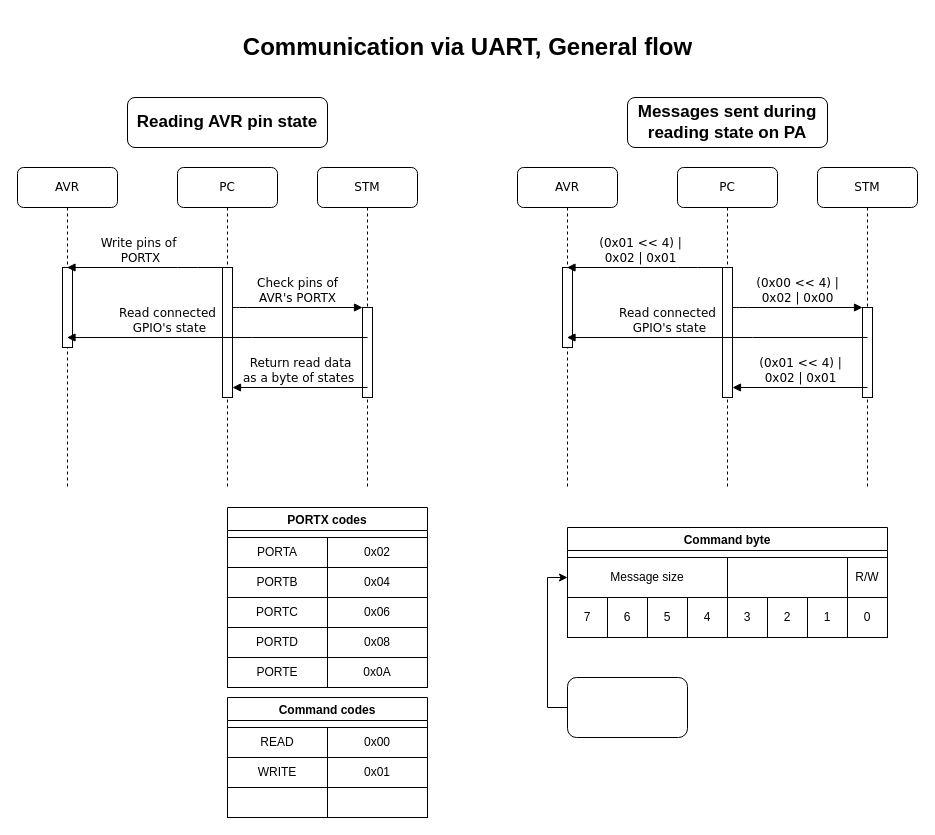
The diagram is 935 pixels wide and 835 high, and some of its shapes have lost their labels. Here are the shapes that lost their labels. From the top down, the centre of each, then its label:
At pixel 787 577: "PORT selection".
At pixel 627 707: "Message size is a number of bytes sent after command byte".
